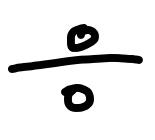div: (8, 26, 142, 110)
